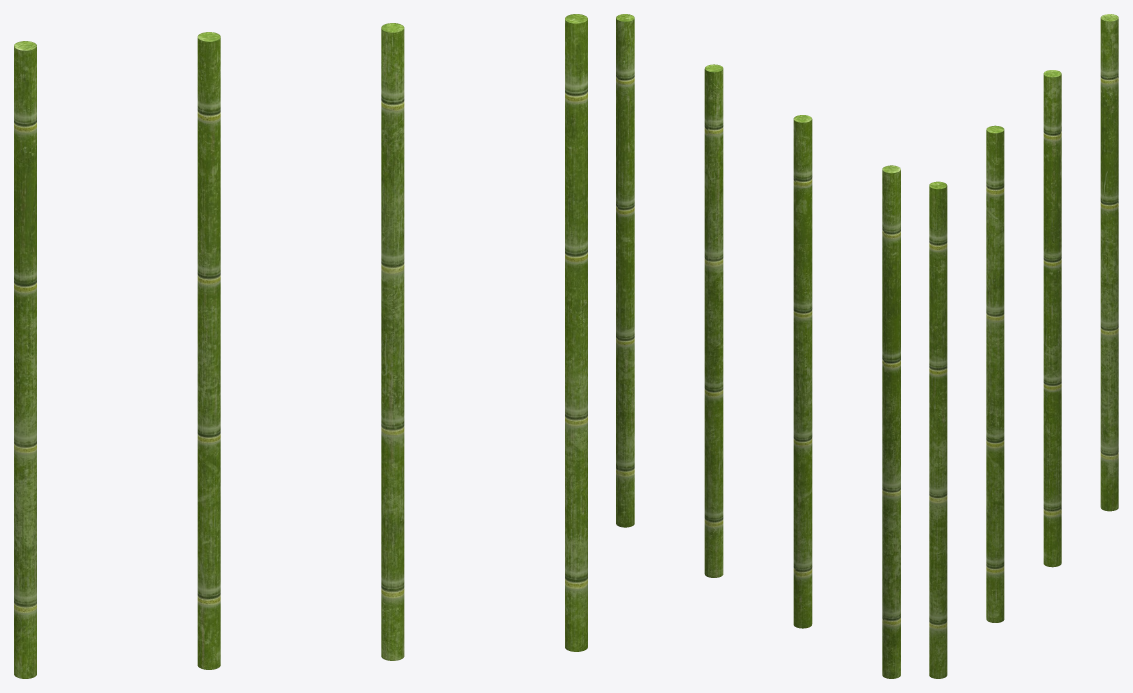
The model's file is Bamboo (2.1, 7.5, 0.3).glb.
3 views of the same model, side by side, from view 1: azimuth 30°, elevation 25°; view 2: azimuth 150°, elevation 25°; view 3: azimuth 270°, elevation 25° (orthographic). The views are drawn at different scales.
Parts seen in each view (by area): view 1: Cylinder.027; view 2: Cylinder.027; view 3: Cylinder.027.
Boxes of the visible parts, left/top/right/bottom form: Cylinder.027: left=14, top=14, right=587, bottom=678; Cylinder.027: left=616, top=14, right=900, bottom=678; Cylinder.027: left=929, top=14, right=1118, bottom=678.
Bounding box in the file's own units: 2.3 × 3 × 1.05.
1 material, 1 textured.
